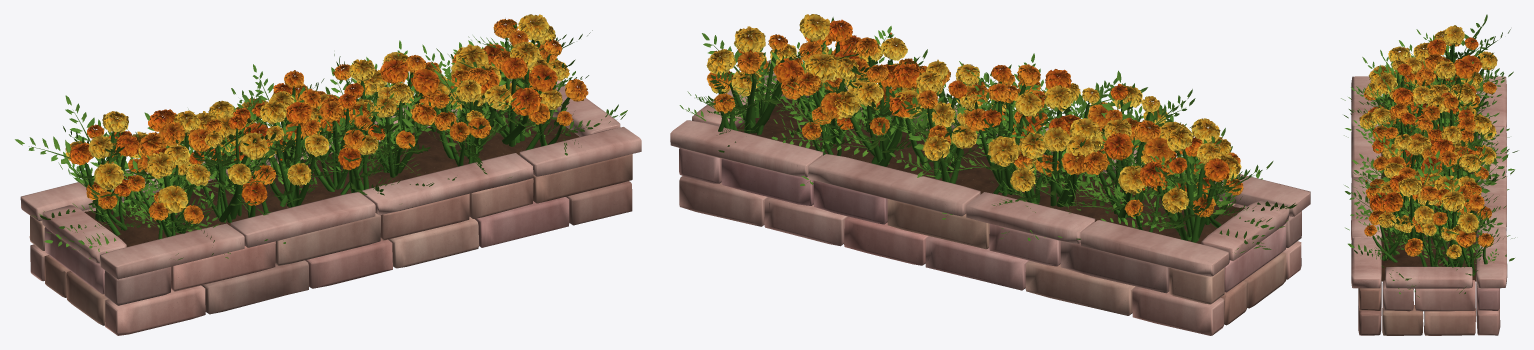
File: w3_flora_cempasuchil_bed.glb
3 renders of one model, left to right at view 1: azimuth 30°, elevation 25°; view 2: azimuth 150°, elevation 25°; view 3: azimuth 270°, elevation 25°, orthographic. The views are drawn at different scales.
Parts seen in each view (by area): view 1: w3_flora_cempasuchil_bed; view 2: w3_flora_cempasuchil_bed; view 3: w3_flora_cempasuchil_bed.
Boxes of the visible parts, x1,y1,x2,y2 form: w3_flora_cempasuchil_bed: (15, 14, 641, 335); w3_flora_cempasuchil_bed: (670, 14, 1310, 335); w3_flora_cempasuchil_bed: (1341, 14, 1518, 335).
Size of the model in its own units: 2.18 by 0.6219 by 0.7621.
4 materials, 4 textured.
